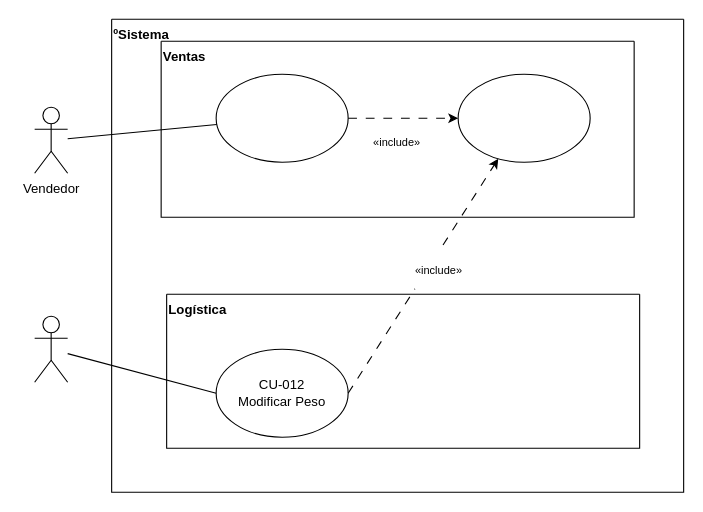
The diagram is 703 pixels wide and 512 high, and some of its shapes have lost their labels. Here are the shapes that lost their labels. From the top down, the box of each, then its label:
(215, 73, 348, 162): CU-008 Cotizar Servicio
(457, 73, 590, 162): CU-009 Facturar Servicio
(34, 315, 68, 382): Encargado
